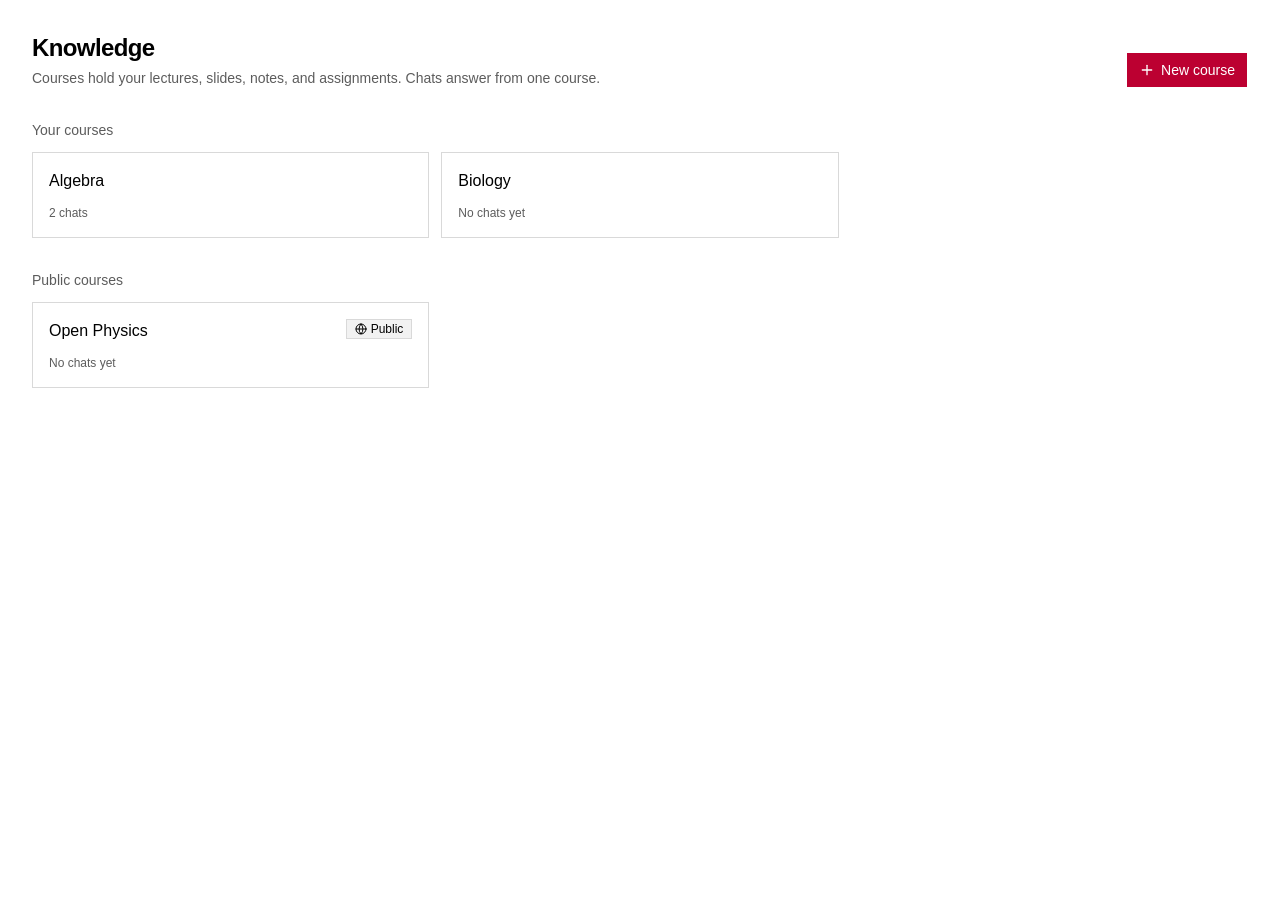
Test: KnowledgePage › shows a quota error on course create
Step 1. Click the button "New course" → (1187, 70), box [1126, 52, 1248, 88]
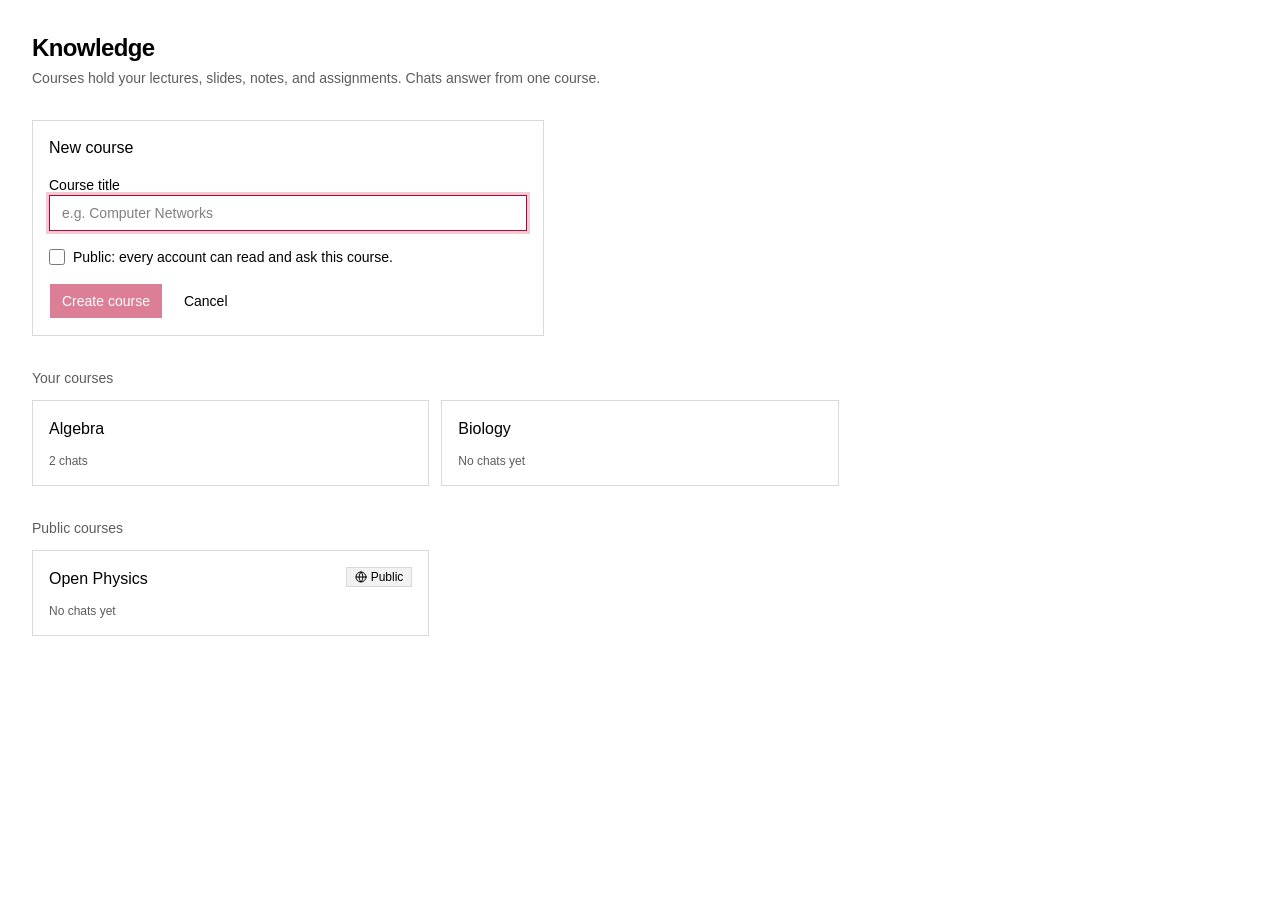
Step 2. Type "Networks" into the field labelled "Course title" → (288, 213), box [49, 195, 527, 231]
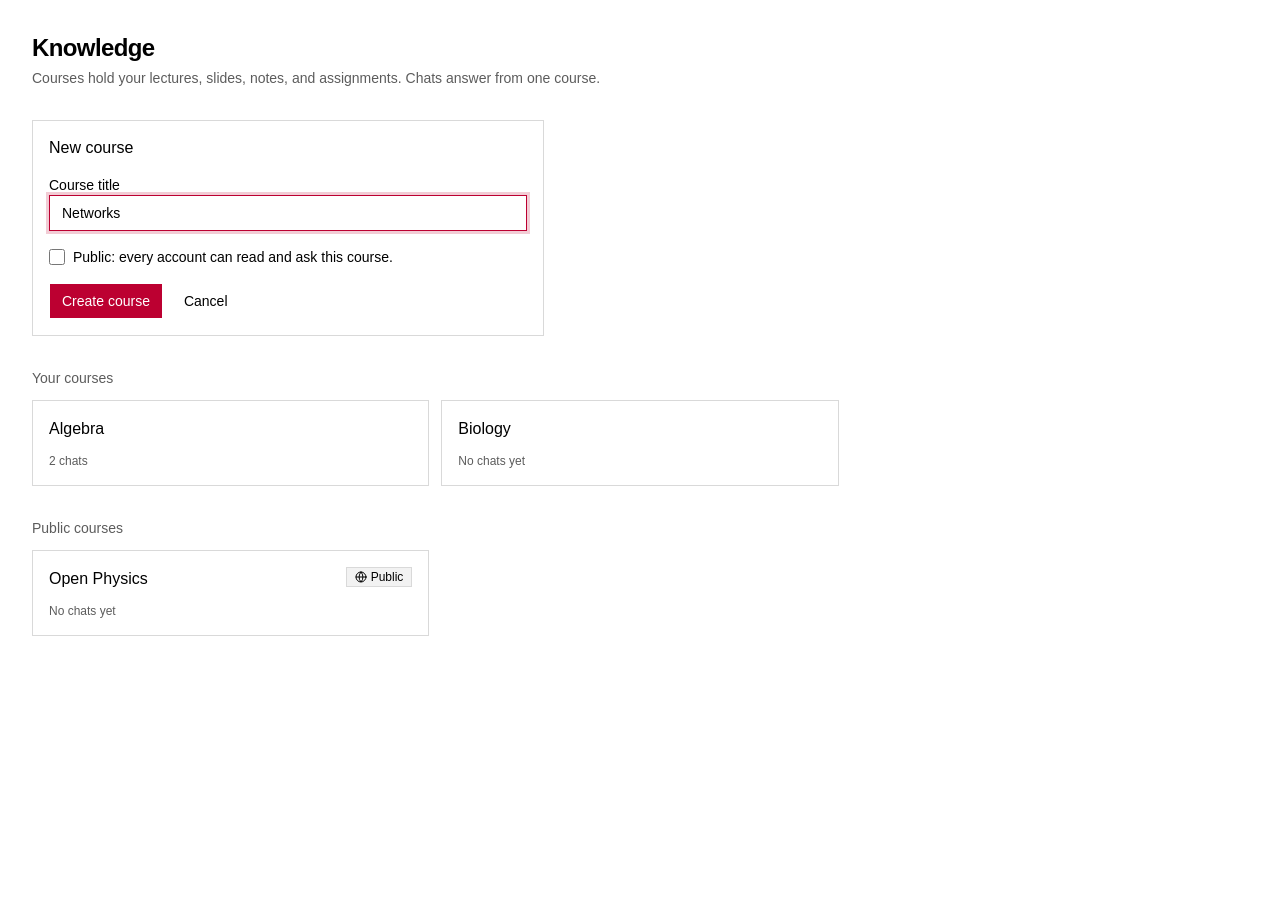
Step 3. Click the button "Create course" → (106, 301), box [49, 283, 163, 319]
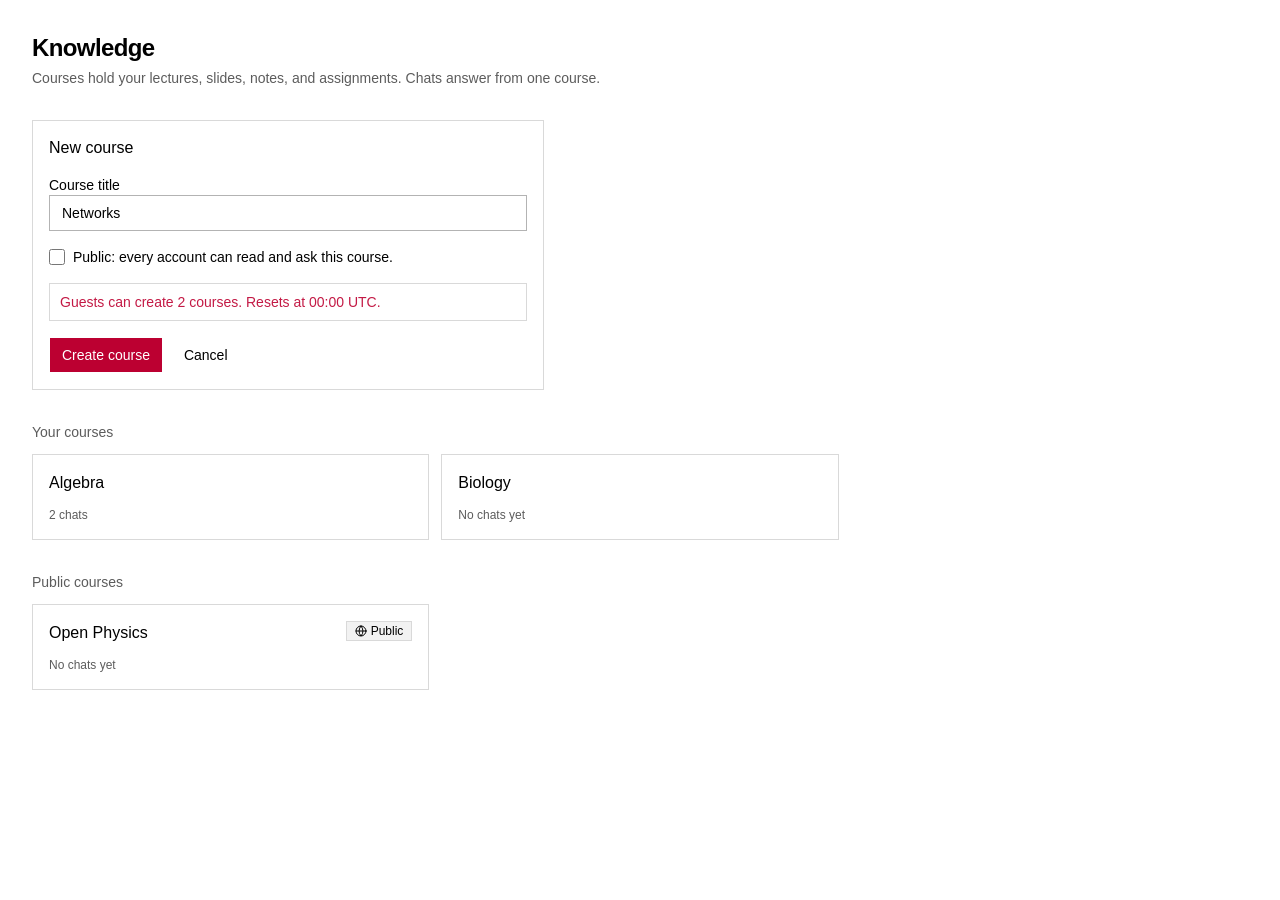
Check: the message reads "Guests can create 2 courses. Resets at 00:00 UTC.", box [60, 294, 381, 310]
